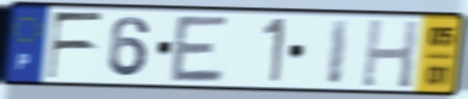1: (260, 16, 287, 86)
6: (108, 15, 151, 79)
E: (168, 13, 232, 85)
F: (46, 10, 106, 81)
H: (358, 17, 422, 91)
I: (324, 17, 353, 87)
